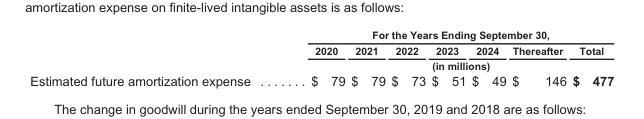table: (29, 28, 613, 87)
table column: (29, 28, 279, 87), (279, 28, 347, 87), (508, 28, 568, 87), (568, 28, 613, 87), (427, 28, 468, 87), (347, 28, 387, 87), (387, 28, 427, 87), (468, 28, 508, 87)
table column header: (29, 28, 613, 72)
table row: (29, 42, 613, 57), (29, 57, 613, 72), (29, 72, 613, 87), (29, 28, 613, 42)
table spanning cell: (279, 57, 613, 72), (279, 28, 613, 42)
